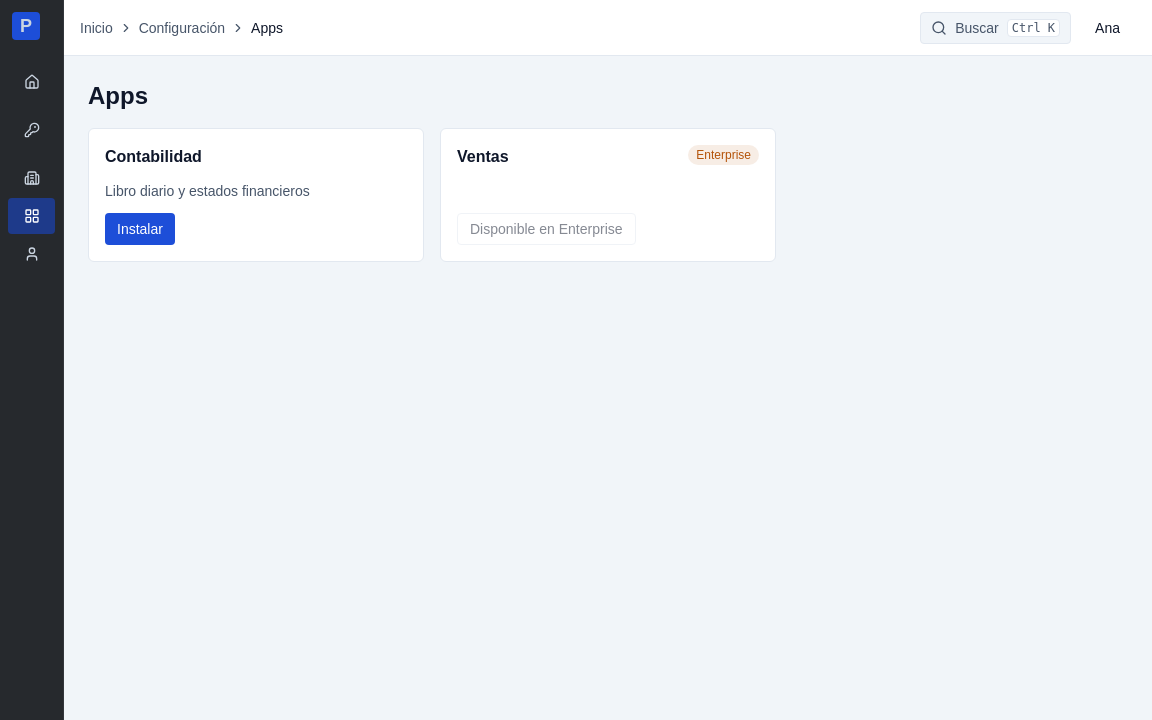
Test case: pantalla Apps (ADR-030) › un error sin mensaje propio de la pantalla usa el mensaje del catálogo de errores
Click the button with aria-label "Instalar Contabilidad": (140, 229) [105,213,175,245]
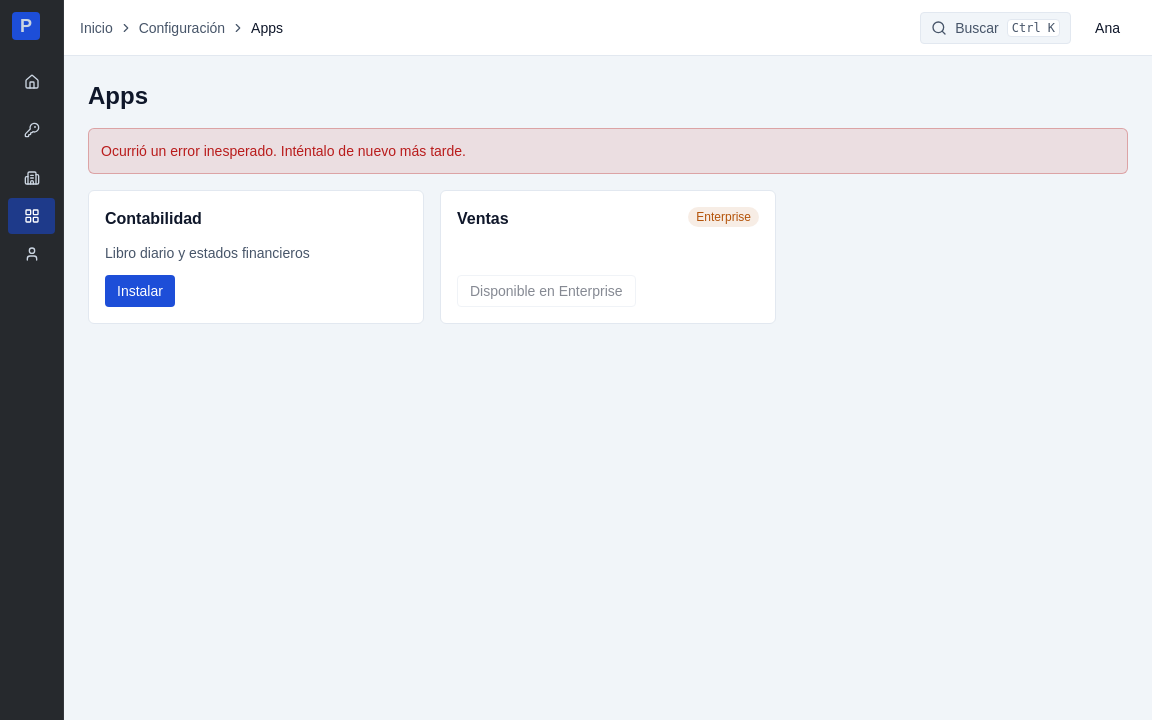
Check: the message shows "Ocurrió un error inesperado", box [101,143,466,159]
